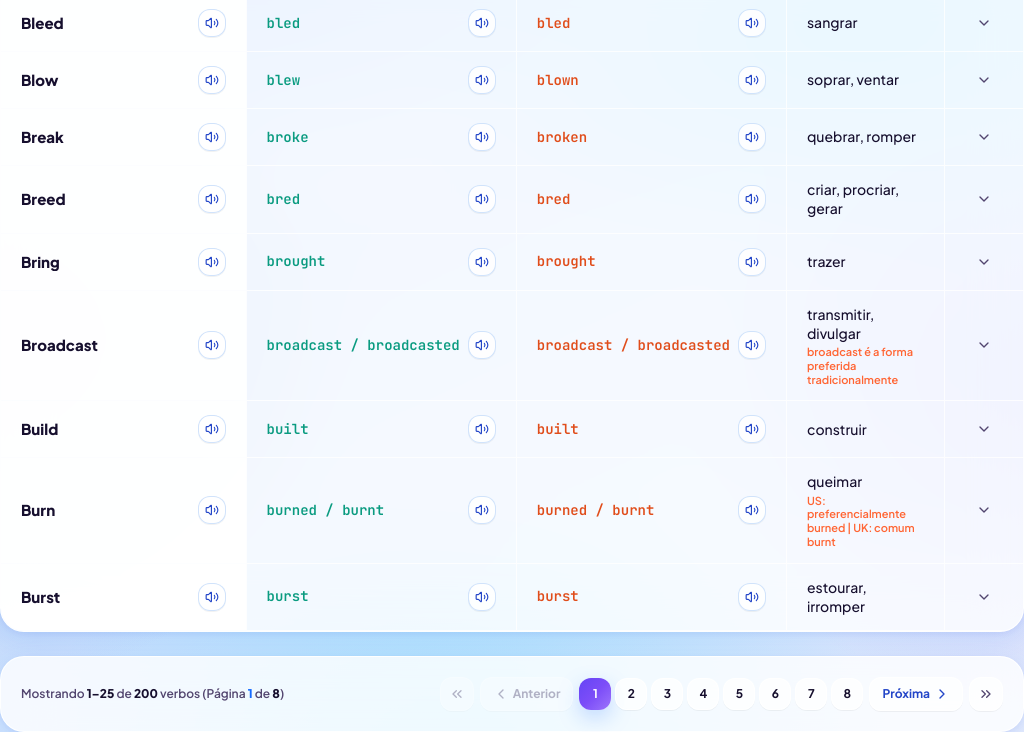
Test: Irregular Verbs 200 Database and Pagination Tests › navigates to page 2 and page 8 via pagination controls
(page scrolled)
Click the button with aria-label "Próxima página". click: click(916, 694)
box: x1=869 y1=677 x2=963 y2=711
(page scrolled)
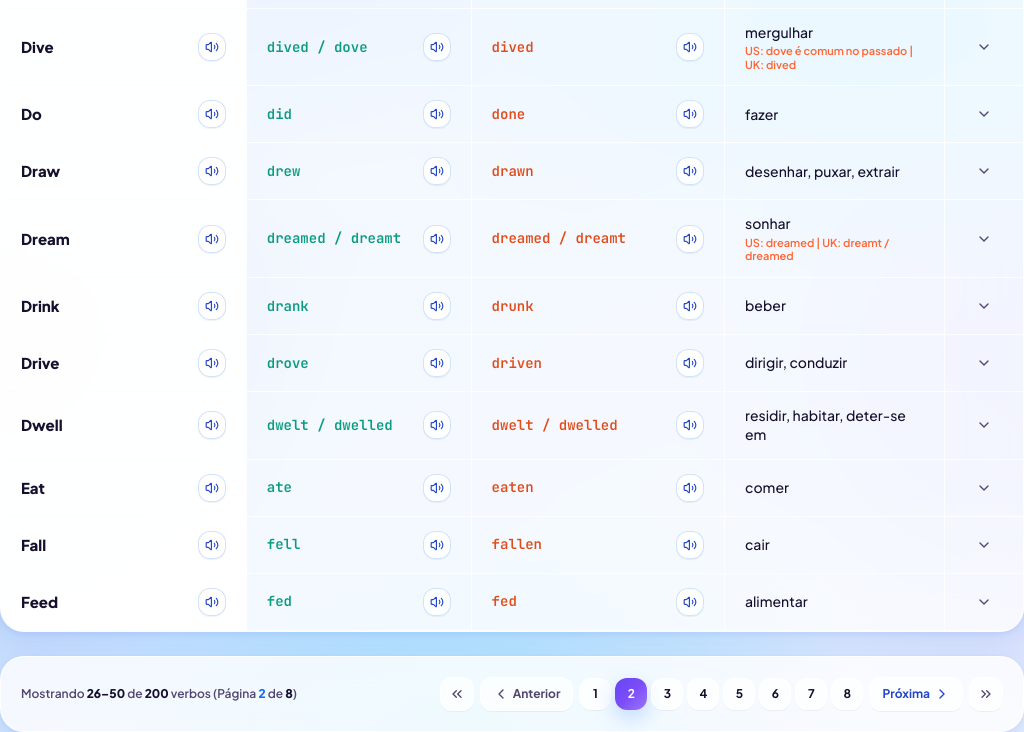
Click the button named "Última página". click: click(986, 694)
box: x1=969 y1=676 x2=1003 y2=710
(page scrolled)
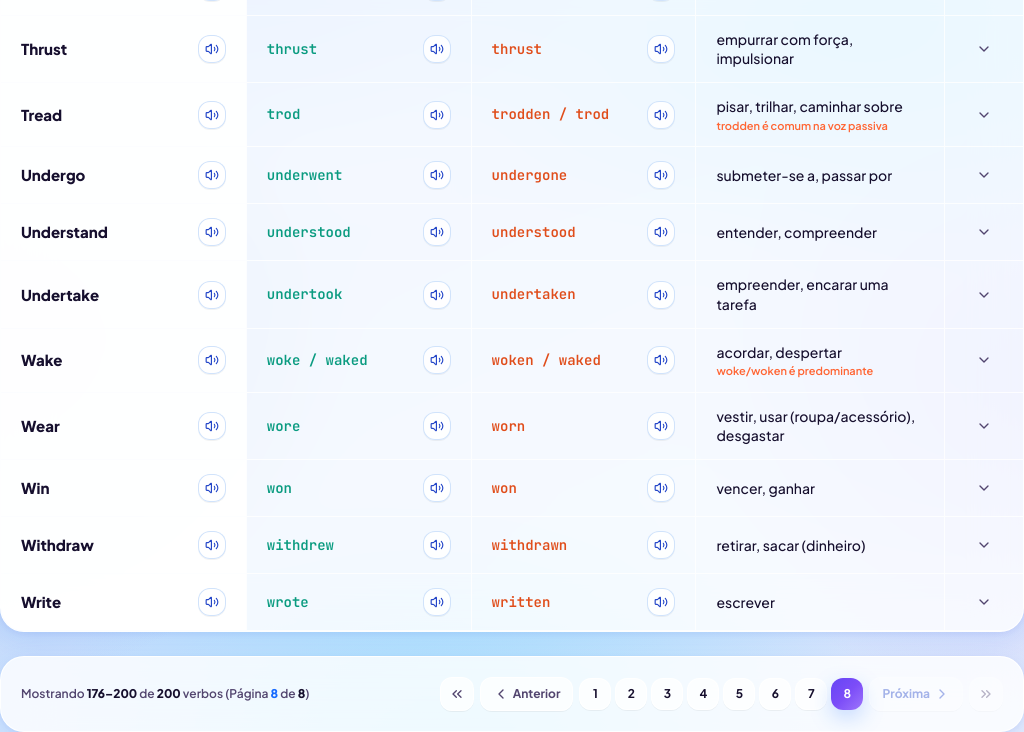
Expected: the button named "Última página" is disabled, x1=969 y1=677 x2=1003 y2=711
Expected: the button with aria-label "Próxima página" is disabled, x1=869 y1=677 x2=963 y2=711
